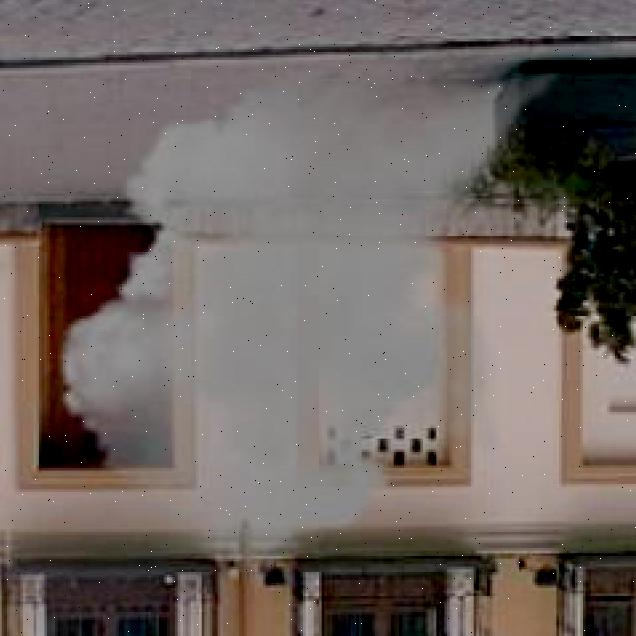smoke: (45, 54, 589, 590)
